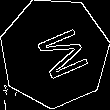M_SW: (23, 22, 86, 84)
